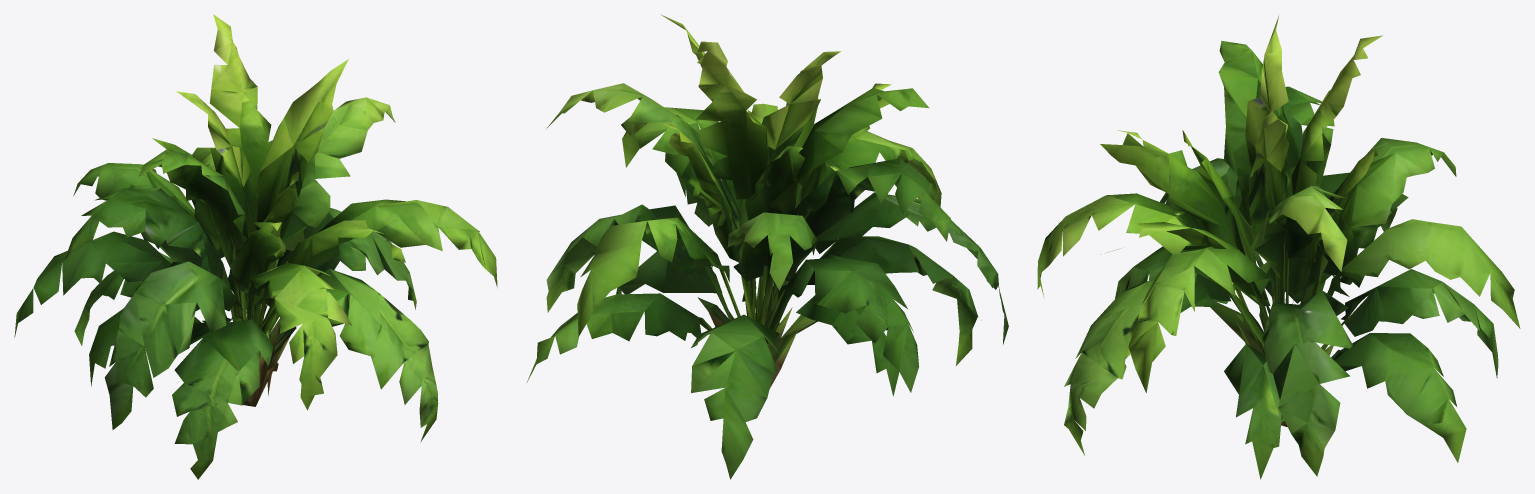
The model's file is Matorral_1_LOD2.glb.
3 renders of one model, left to right at view 1: azimuth 30°, elevation 25°; view 2: azimuth 150°, elevation 25°; view 3: azimuth 270°, elevation 25°, orthographic. The views are drawn at different scales.
Visible parts, largest first — view 1: tripo_node_bbb65b58-1855-41e9-a174-85b17aae8ffe; view 2: tripo_node_bbb65b58-1855-41e9-a174-85b17aae8ffe; view 3: tripo_node_bbb65b58-1855-41e9-a174-85b17aae8ffe.
Boxes of the visible parts, x1,y1,x2,y2 form: tripo_node_bbb65b58-1855-41e9-a174-85b17aae8ffe: (14,14,497,479); tripo_node_bbb65b58-1855-41e9-a174-85b17aae8ffe: (527,14,1008,479); tripo_node_bbb65b58-1855-41e9-a174-85b17aae8ffe: (1037,16,1520,479).
Size of the model in its own units: 0.9934 by 0.8959 by 0.9986.
Materials: 1 (1 with a texture image).
